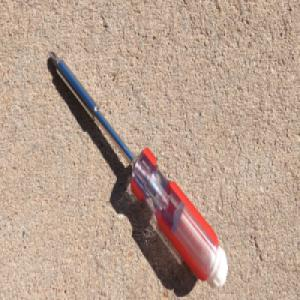Screwdriver: (48, 48, 229, 291)
